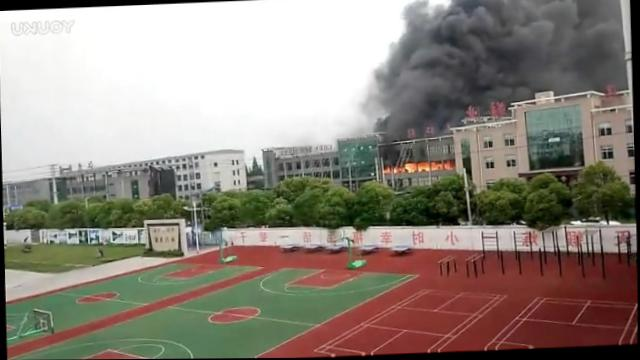fire: (444, 160, 455, 170), (419, 162, 430, 172), (406, 164, 417, 174), (431, 162, 444, 170), (395, 167, 407, 172), (386, 167, 392, 174)
